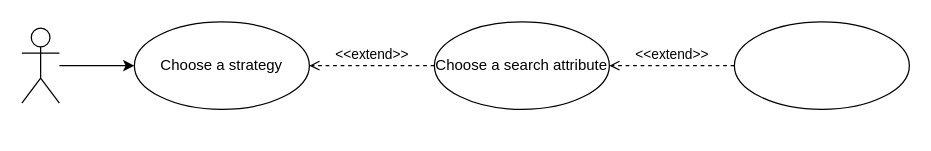
Some shapes in this 931 by 151 pixel diagram are drawn without their labels. The box of each missing label's shape, as (x1, y1, x2, y2) in pixels:
Search by the attribute: (733, 21, 909, 109)
User: (21, 27, 59, 103)
